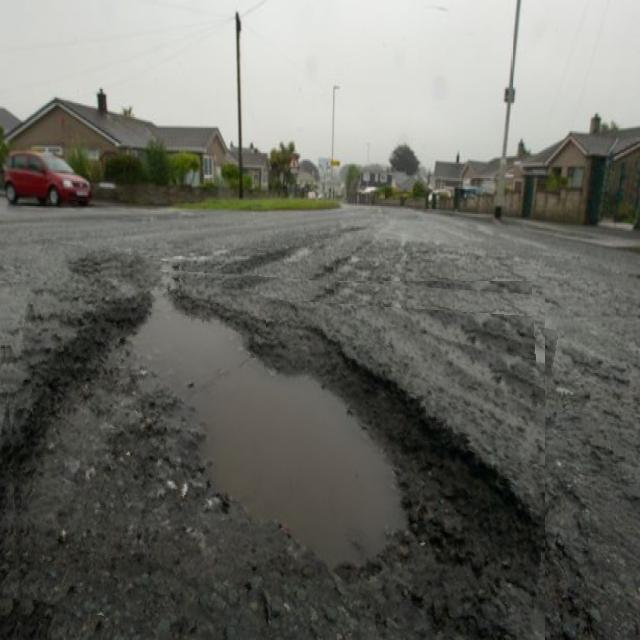Pothole: (0, 259, 545, 640)
